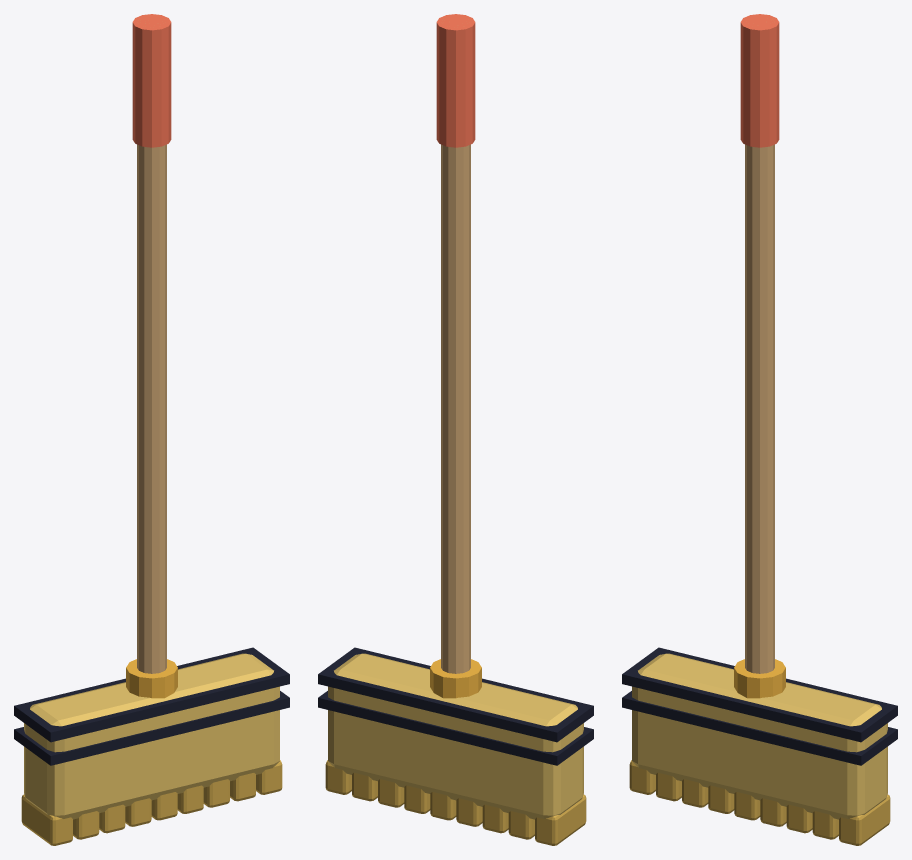
File: broom.glb
3 renders of one model, left to right at view 1: azimuth 30°, elevation 25°; view 2: azimuth 150°, elevation 25°; view 3: azimuth 330°, elevation 25°, orthographic.
Parts seen in each view (by area): view 1: head, handle, grip, bind0.28, bind0.22, ferrule, tuft0, tuft8, tuft1, tuft3, tuft2, tuft4 (+3 smaller); view 2: head, handle, grip, bind0.28, bind0.22, ferrule, tuft0, tuft8, tuft1, tuft3, tuft2, tuft4 (+3 smaller); view 3: head, handle, grip, bind0.28, bind0.22, ferrule, tuft8, tuft0, tuft5, tuft7, tuft4, tuft6 (+3 smaller).
Part boxes in pixels (left/top/right/bottom): head: left=24, top=653, right=279, bottom=819; handle: left=137, top=23, right=166, bottom=673; grip: left=132, top=14, right=171, bottom=147; bind0.28: left=14, top=647, right=289, bottom=742; bind0.22: left=14, top=691, right=289, bottom=765; ferrule: left=126, top=659, right=177, bottom=698; tuft0: left=21, top=794, right=72, bottom=845; tuft8: left=256, top=760, right=282, bottom=794; tuft1: left=73, top=811, right=99, bottom=839; tuft3: left=125, top=798, right=151, bottom=826; tuft2: left=99, top=804, right=125, bottom=833; tuft4: left=151, top=792, right=177, bottom=820; head: left=328, top=653, right=583, bottom=819; handle: left=441, top=144, right=470, bottom=673; grip: left=436, top=14, right=475, bottom=147; bind0.28: left=318, top=647, right=593, bottom=742; bind0.22: left=318, top=691, right=593, bottom=765; ferrule: left=430, top=659, right=481, bottom=698; tuft0: left=535, top=794, right=586, bottom=845; tuft8: left=325, top=760, right=351, bottom=794; tuft1: left=508, top=811, right=534, bottom=839; tuft3: left=456, top=798, right=482, bottom=826; tuft2: left=482, top=804, right=508, bottom=833; tuft4: left=430, top=792, right=456, bottom=820; head: left=632, top=653, right=887, bottom=819; handle: left=745, top=144, right=774, bottom=673; grip: left=740, top=14, right=779, bottom=147; bind0.28: left=622, top=647, right=897, bottom=742; bind0.22: left=622, top=691, right=897, bottom=765; ferrule: left=734, top=659, right=785, bottom=698; tuft8: left=839, top=794, right=890, bottom=845; tuft0: left=629, top=760, right=655, bottom=794; tuft5: left=760, top=798, right=786, bottom=826; tuft7: left=812, top=811, right=838, bottom=839; tuft4: left=734, top=792, right=760, bottom=820; tuft6: left=786, top=804, right=812, bottom=833.
Size of the model in its own units: 0.64 by 2.01 by 0.17.
